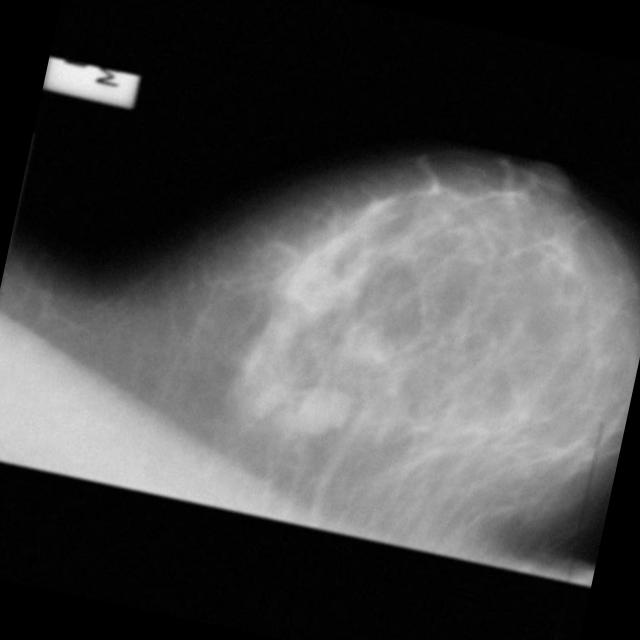CIRC: (286, 374, 359, 448)
